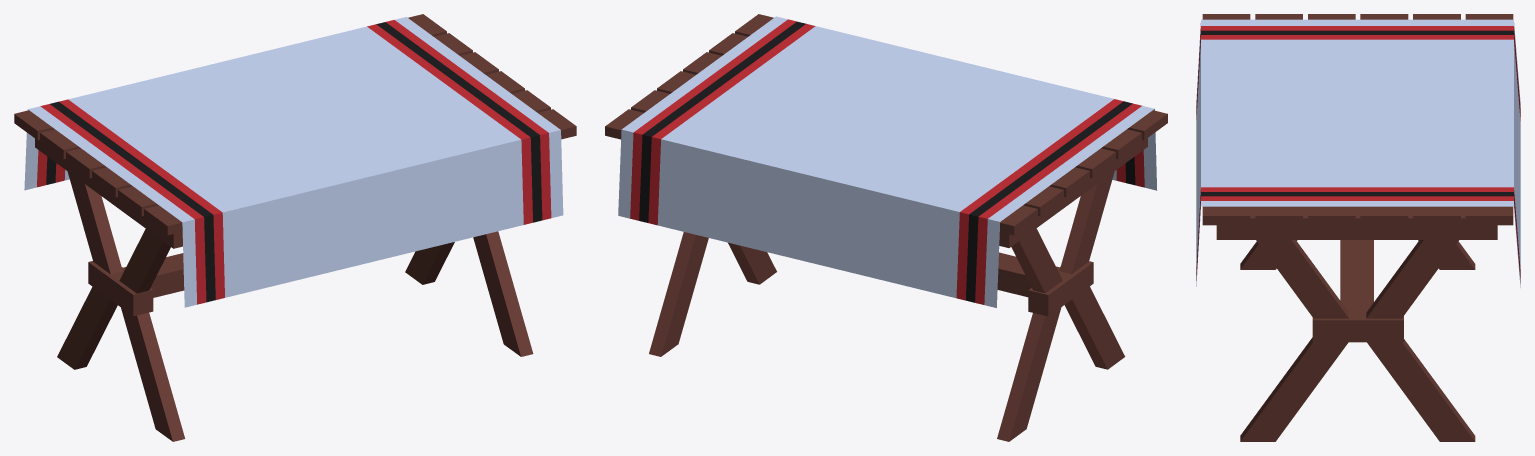
File: table_with_tablecloth_LOW.fbx
The picture shows the model from 3 angles, left to right: view 1: azimuth 30°, elevation 25°; view 2: azimuth 150°, elevation 25°; view 3: azimuth 270°, elevation 25°; orthographic projection.
Parts seen in each view (by area): view 1: tablecloth, table_cross.001; view 2: tablecloth, table_cross.001; view 3: tablecloth, table_cross.001.
Part boxes in pixels (box(x1,y1,x2,y2)): tablecloth: box(24, 17, 563, 307); table_cross.001: box(14, 14, 576, 441); tablecloth: box(618, 16, 1157, 307); table_cross.001: box(605, 14, 1167, 441); tablecloth: box(1196, 19, 1520, 287); table_cross.001: box(1202, 14, 1513, 441).
Bounding box in the file's own units: 200 × 110 × 136.
